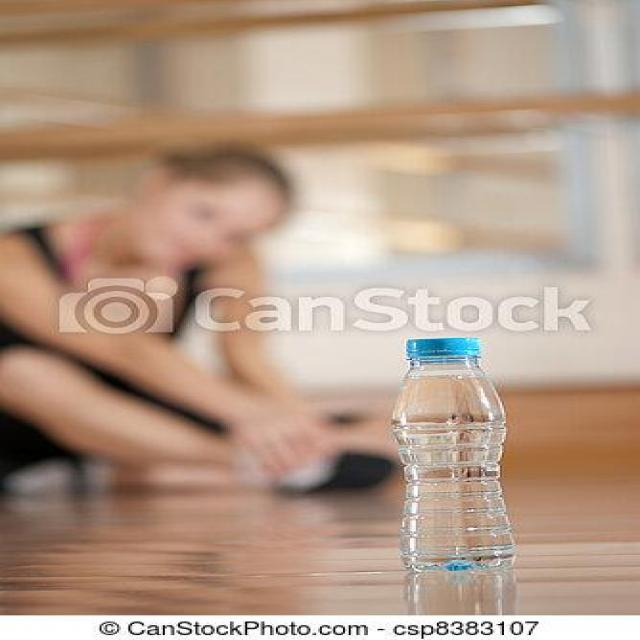bottle: (378, 329, 524, 592)
